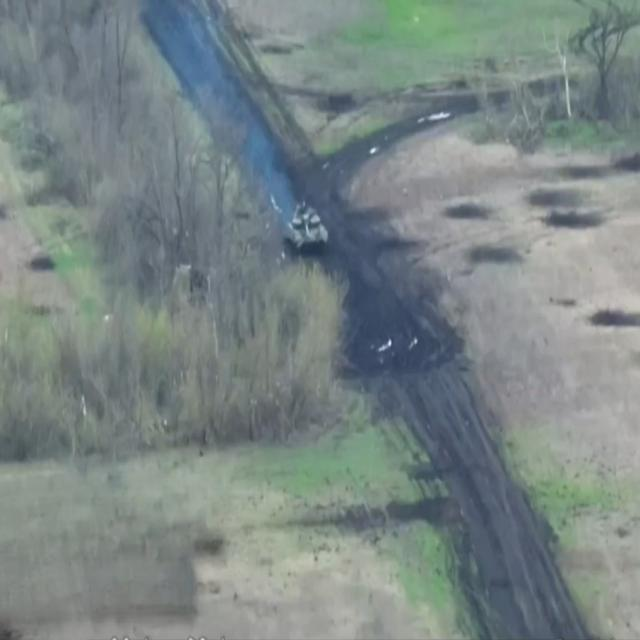MBT: (285, 199, 330, 256)
